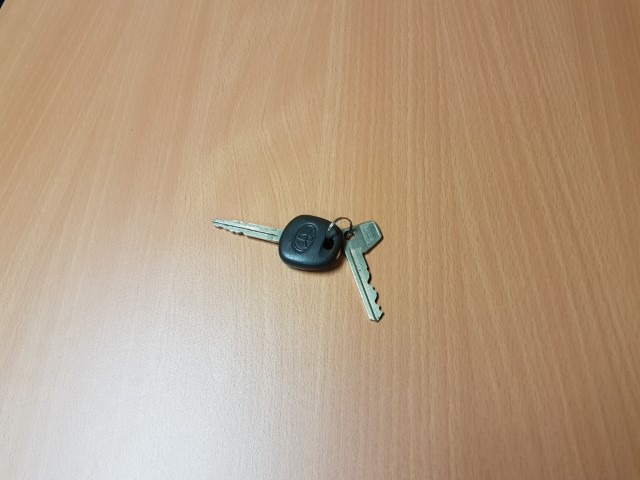key: (211, 213, 345, 272)
